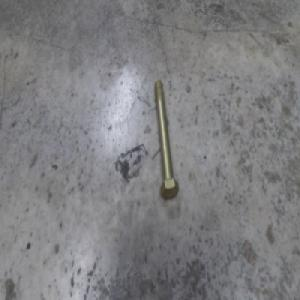Bolt: (154, 79, 179, 201)
